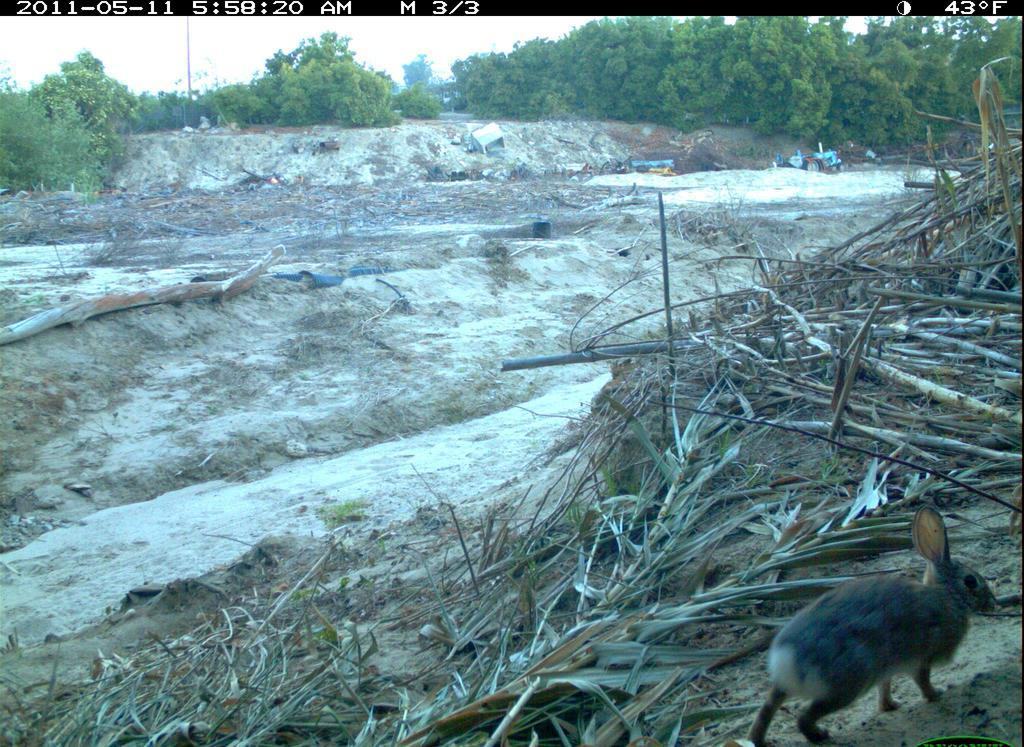rabbit: (744, 501, 1004, 747)
